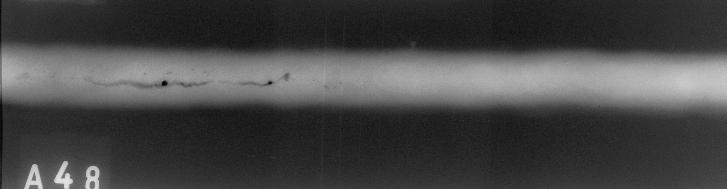FP: (21, 60, 372, 100)
